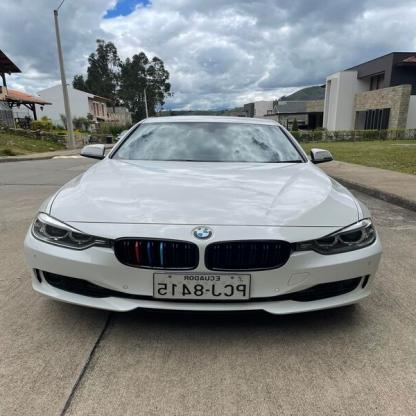Placa: (152, 269, 253, 305)
